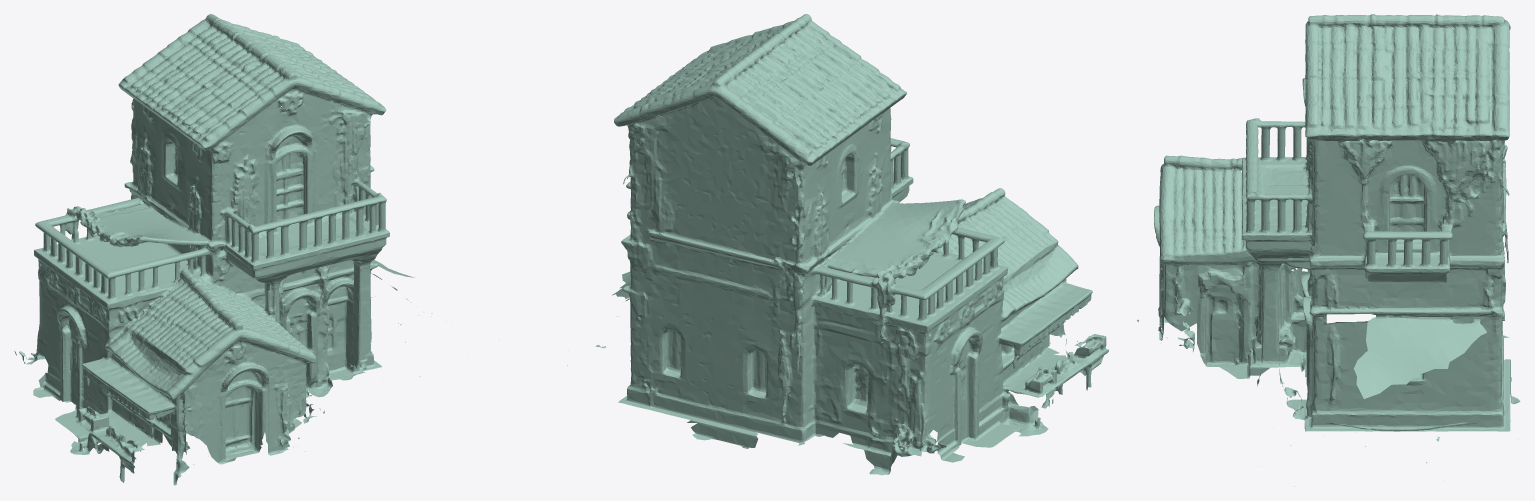
File: ghibli-block-02-building-0.glb
3 views of the same model, side by side, from view 1: azimuth 30°, elevation 25°; view 2: azimuth 150°, elevation 25°; view 3: azimuth 270°, elevation 25° (orthographic). The views are drawn at different scales.
Visible parts, largest first — view 1: building_0; view 2: building_0; view 3: building_0.
Boxes of the visible parts, left/top/right/bottom form: building_0: left=14, top=14, right=467, bottom=485; building_0: left=567, top=14, right=1108, bottom=475; building_0: left=1137, top=14, right=1520, bottom=486.
Size of the model in its own units: 0.8404 by 0.6528 by 0.5915.
